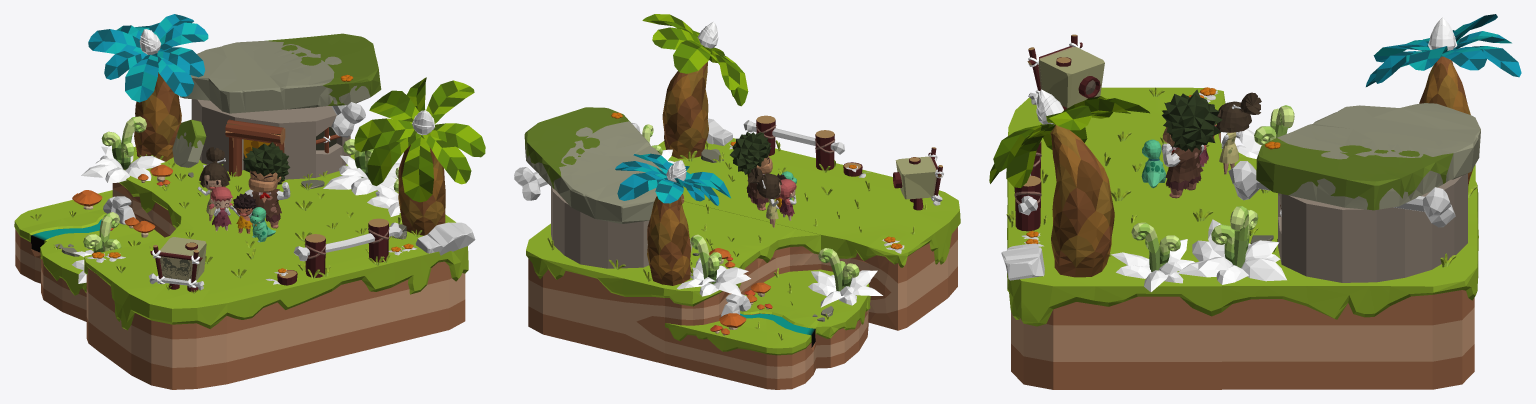
Rendered from 0098_roundStoneFamily_familyPhoto.fbx.
3 renders of one model, left to right at view 1: azimuth 30°, elevation 25°; view 2: azimuth 150°, elevation 25°; view 3: azimuth 270°, elevation 25°, orthographic. The views are drawn at different scales.
Visible parts, largest first — view 1: Stage1, House_Roof, Stage2, Stage1_2, House, GreenWood_Leaf2 (×3), GreenWood_Leaf1 (×3), BlueWood_S, BlueWood_Leaf2 (×3), GreenWood_S, BlueWood_Leaf1 (×2), Father_Head (+20 smaller); view 2: Stage1, Stage1_2, Stage2, House_Roof, House, GreenWood_S, BlueWood_S, Camera_Body, GreenWood_Leaf1 (×2), Father_Head, Fence_Wood (×2), BlueWood_Leaf1 (×2) (+12 smaller); view 3: Stage1, Stage1_2, House_Roof, House, GreenWood_S, Camera_Body, Father_Head, House_bone, Moss2 (×3), GreenWood_Leaf2 (×2), BlueWood_S, BlueWood_Leaf1 (×3) (+14 smaller).
Part boxes in pixels (x1,y1,x2,y2): Stage1: (84,190,468,389); House_Roof: (179,33,381,113); Stage2: (14,190,164,321); Stage1_2: (112,146,397,237); House: (191,99,350,179); GreenWood_Leaf2 (×3): (354,80,474,202); GreenWood_Leaf1 (×3): (367,90,485,185); BlueWood_S: (134,72,181,161); BlueWood_Leaf2 (×3): (88,14,194,96); GreenWood_S: (398,145,445,235); BlueWood_Leaf1 (×2): (125,22,208,102); Father_Head: (243,142,290,192); Stage1: (658,138,960,330); Stage1_2: (526,201,821,364); Stage2: (665,269,870,389); House_Roof: (524,107,661,223); House: (551,187,649,268); GreenWood_S: (662,62,708,158); BlueWood_S: (647,196,690,285); Camera_Body: (893,156,935,210); GreenWood_Leaf1 (×2): (673,40,748,106); Father_Head: (730,132,772,174); Fence_Wood (×2): (756,115,834,170); BlueWood_Leaf1 (×2): (655,172,730,203); Stage1: (1007,87,1225,389); Stage1_2: (1220,143,1478,389); House_Roof: (1256,103,1480,210); House: (1278,173,1467,282); GreenWood_S: (1050,124,1114,277); Camera_Body: (1039,47,1104,110); Father_Head: (1162,89,1222,151); House_bone: (1228,161,1455,227); Moss2 (×3): (1131,105,1294,271); GreenWood_Leaf2 (×2): (1006,105,1092,187); BlueWood_S: (1419,56,1472,185); BlueWood_Leaf1 (×3): (1373,31,1511,70).
Size of the model in its own units: 18.92 by 11.41 by 19.66.
